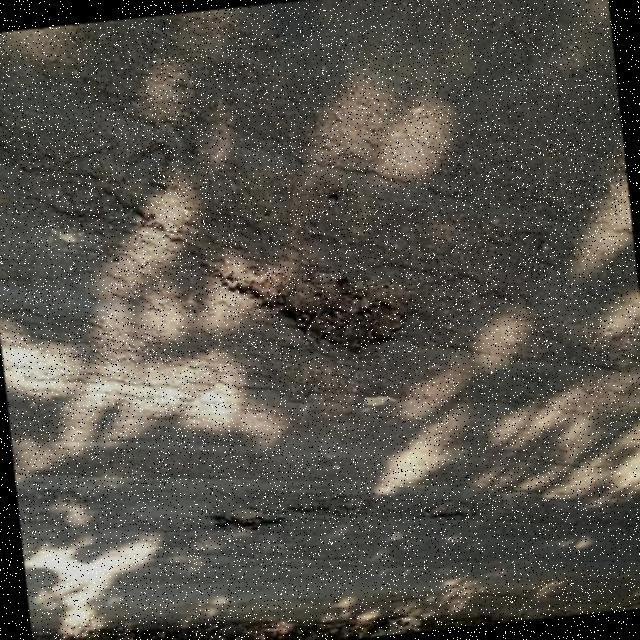Pothole: (218, 255, 406, 347), (212, 514, 277, 530)
